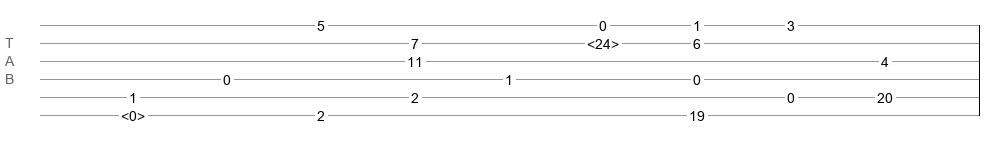0: (223, 72, 231, 82), (599, 18, 607, 28), (693, 72, 701, 82), (787, 90, 795, 100)
1: (129, 90, 137, 100), (505, 72, 513, 82), (693, 18, 701, 28)
11: (407, 54, 423, 64)
19: (689, 108, 705, 118)
2: (317, 108, 325, 118), (411, 90, 419, 100)
20: (877, 90, 893, 100)
3: (787, 18, 795, 28)
4: (881, 54, 889, 64)
5: (317, 18, 325, 28)
6: (693, 36, 701, 46)
7: (411, 36, 419, 46)
harmonic: (587, 36, 619, 46), (121, 108, 145, 118)
